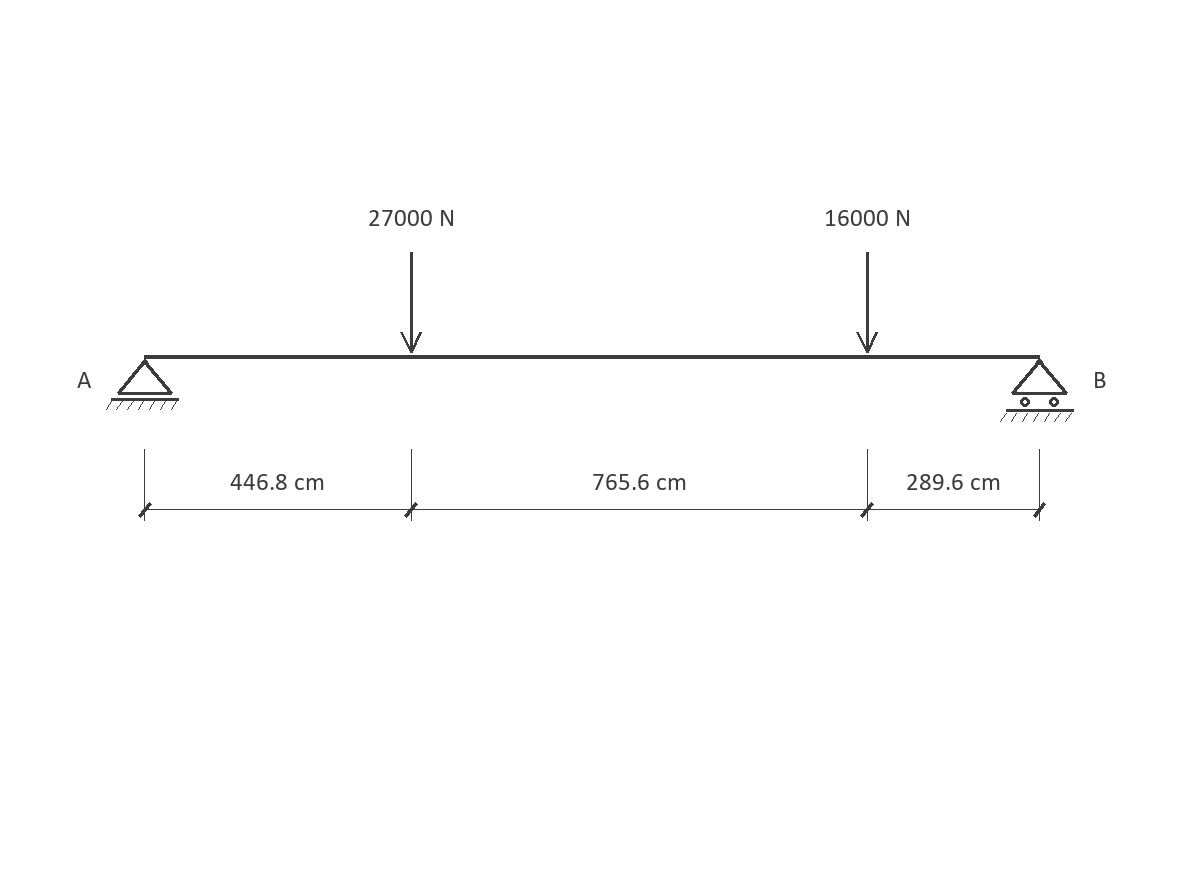pin_support: (106, 359, 179, 410)
point_load: (400, 252, 422, 353), (856, 252, 878, 353)
roller_support: (1000, 359, 1074, 422)
